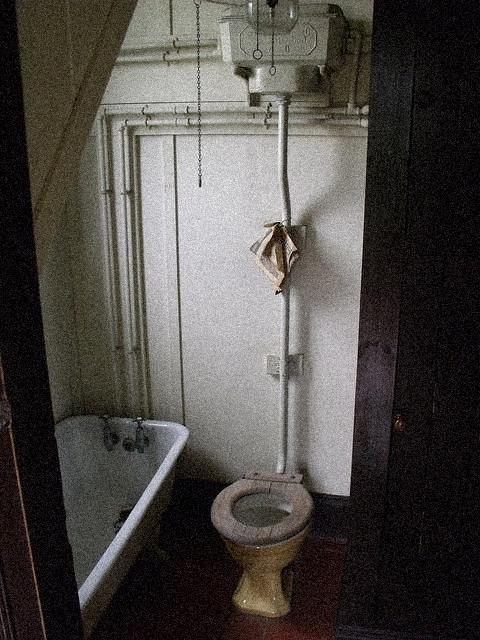Sanitario: (212, 456, 318, 617)
